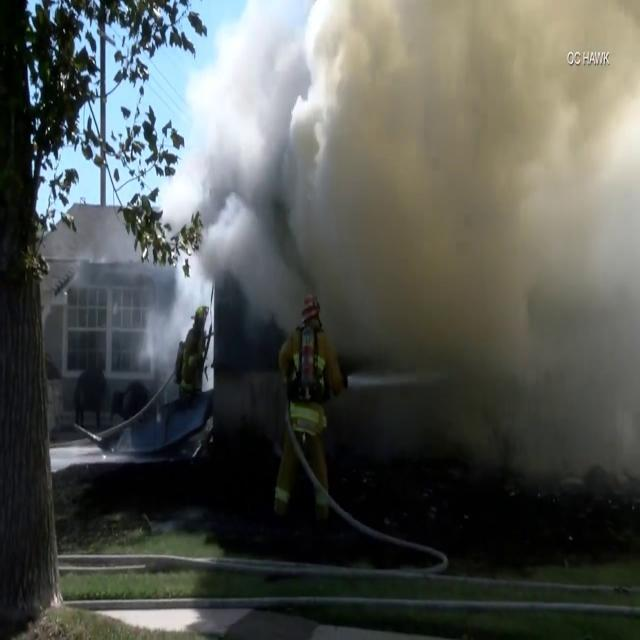Smoke: (155, 0, 639, 396)
